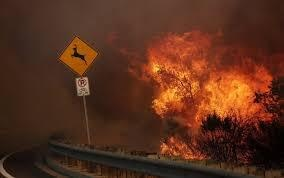fire: (139, 29, 273, 147)
